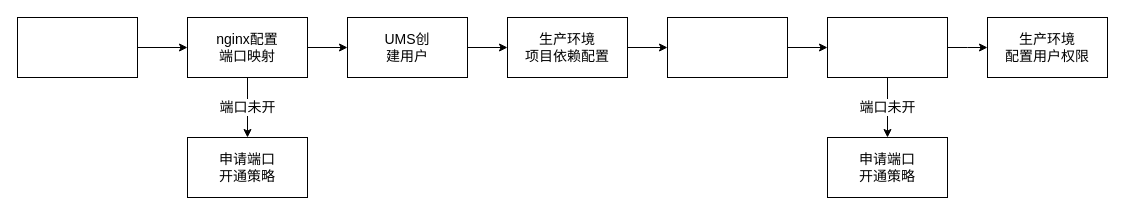
This 1125x215 diagram has some shape labels left out. Each missing label, with the centre of its shape:
生产环境 定时任务配置: pixel 887 47
生产环境 驿道流水线配置: pixel 727 47
申请域名映射 生产环境ip地址: pixel 77 47
